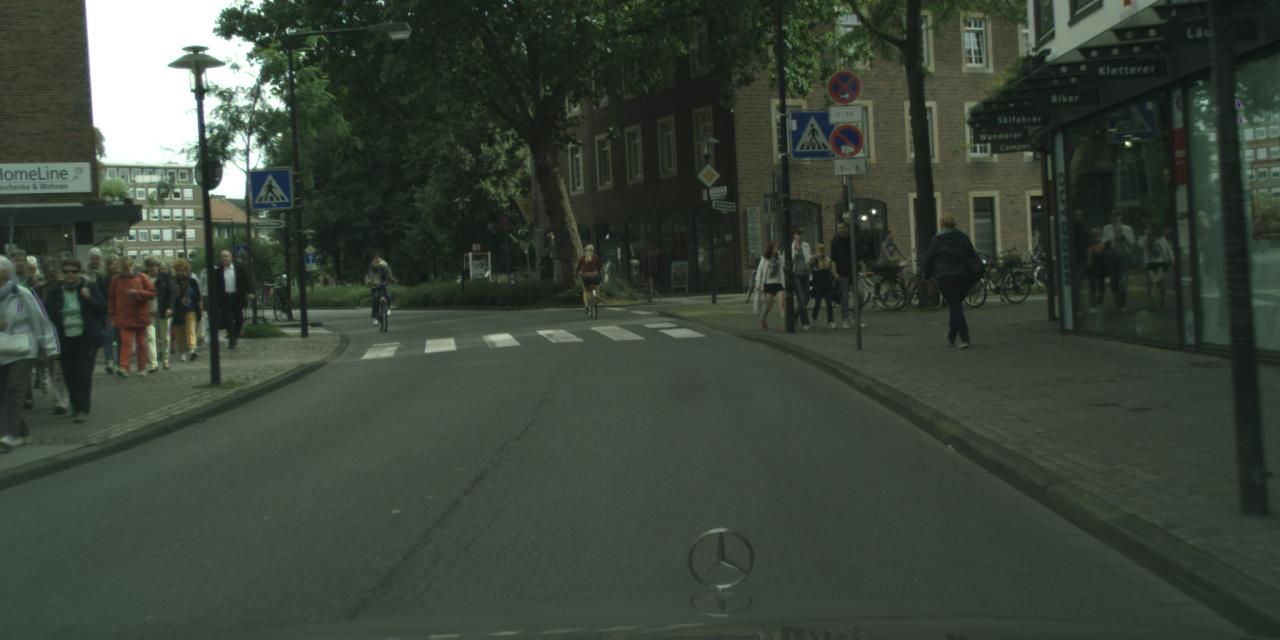ped: (42, 258, 108, 420), (24, 256, 88, 412), (0, 255, 48, 444), (0, 249, 58, 401), (925, 211, 979, 344), (6, 255, 59, 383), (104, 254, 154, 375), (91, 254, 138, 368), (132, 255, 178, 369), (825, 220, 868, 328), (163, 257, 204, 358), (779, 227, 819, 325), (208, 249, 248, 346), (76, 246, 114, 343), (144, 260, 182, 352), (168, 258, 204, 348), (755, 240, 791, 330), (116, 264, 152, 352), (803, 242, 837, 326), (199, 258, 225, 324), (366, 252, 392, 317), (879, 229, 905, 291), (578, 242, 603, 306), (538, 248, 556, 292), (601, 258, 615, 292), (261, 282, 271, 304)
